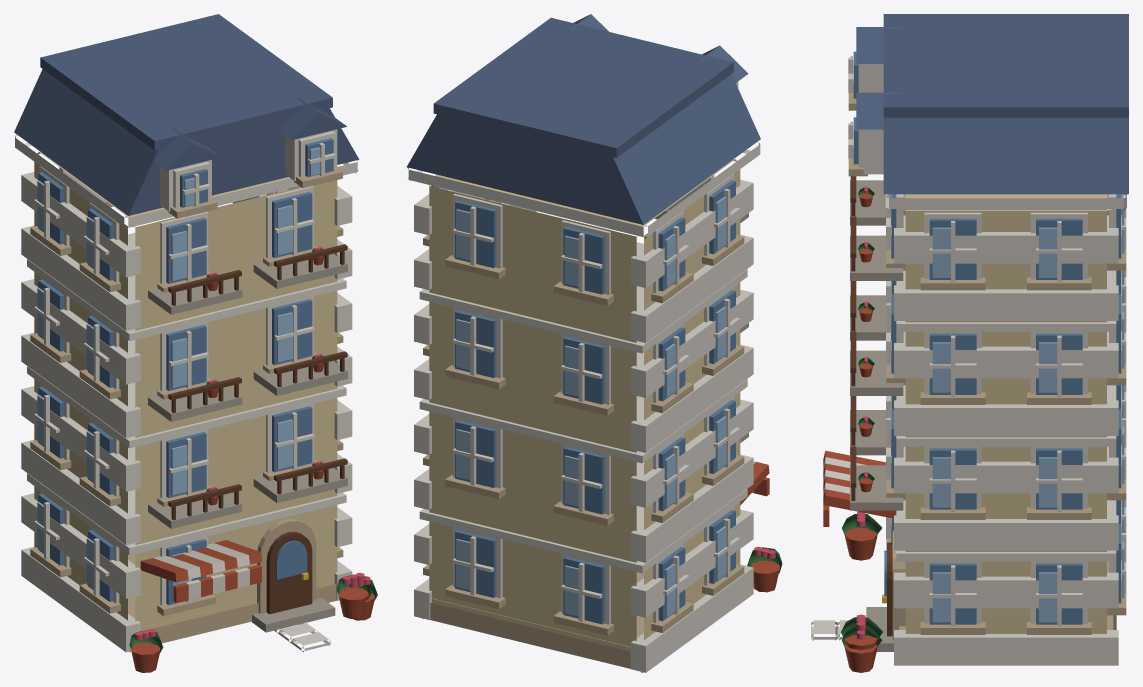
File: building-tall-a.glb
3 renders of one model, left to right at view 1: azimuth 30°, elevation 25°; view 2: azimuth 150°, elevation 25°; view 3: azimuth 270°, elevation 25°, orthographic. The views are drawn at different scales.
Visible parts, largest first — view 1: building-tall-a; view 2: building-tall-a; view 3: building-tall-a.
Part boxes in pixels (bbox=[...]): building-tall-a: bbox=[14, 14, 377, 672]; building-tall-a: bbox=[407, 14, 782, 672]; building-tall-a: bbox=[811, 14, 1128, 672].
Size of the model in its own units: 0.8156 by 1.65 by 0.8601.
